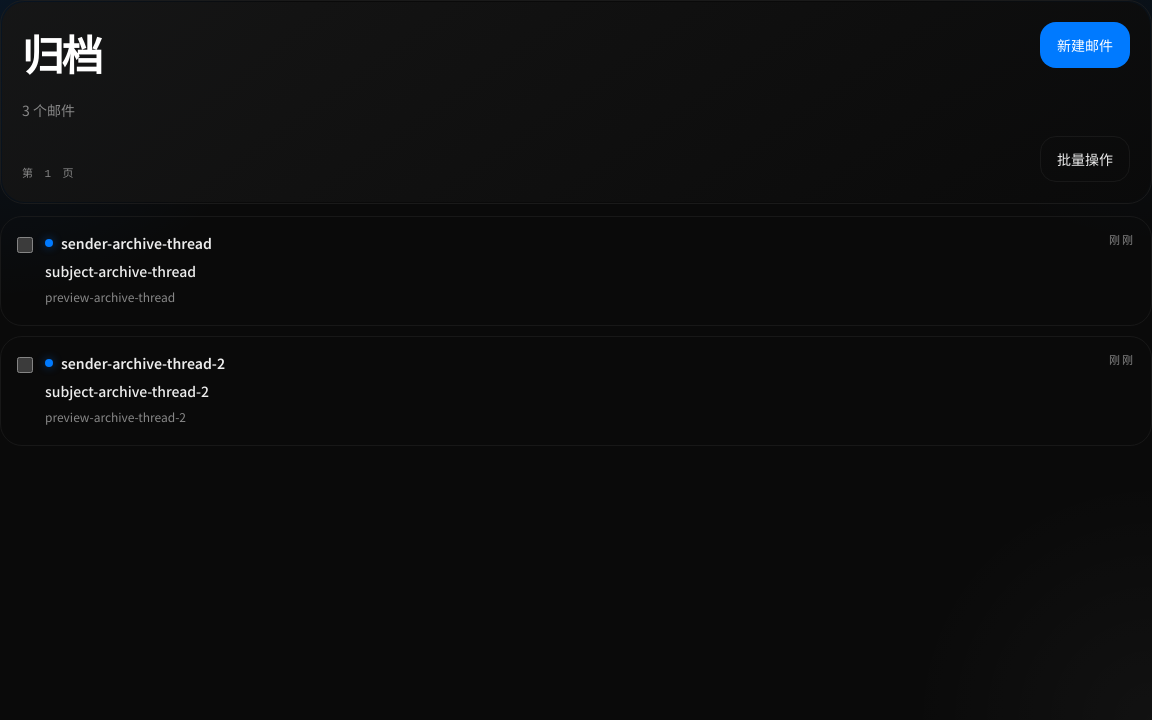
Test case: mail-actions › hides read actions but keeps the rest of the bulk surface in archive mailbox
The width and height of the screenshot is (1152, 720).
Click the checkbox with test id "thread-select-archive-thread".
click(25, 245)  # box [17,237,33,253]
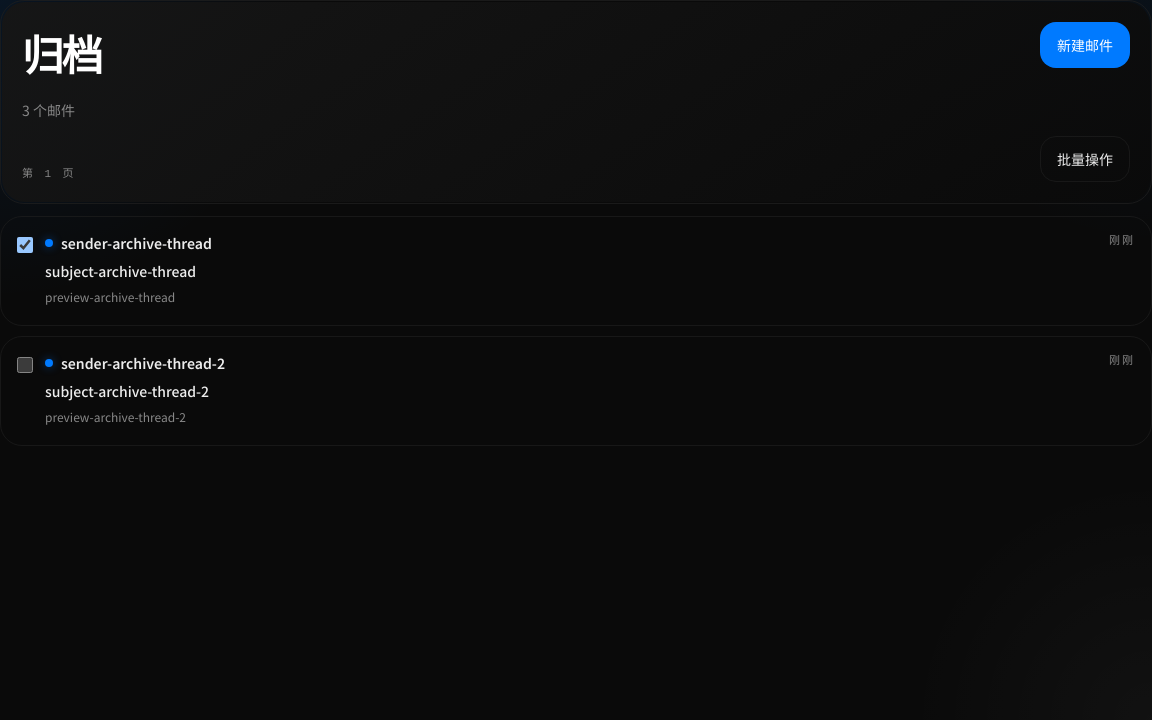
Click the checkbox with test id "thread-select-archive-thread-2".
click(25, 365)  # box [17,357,33,373]
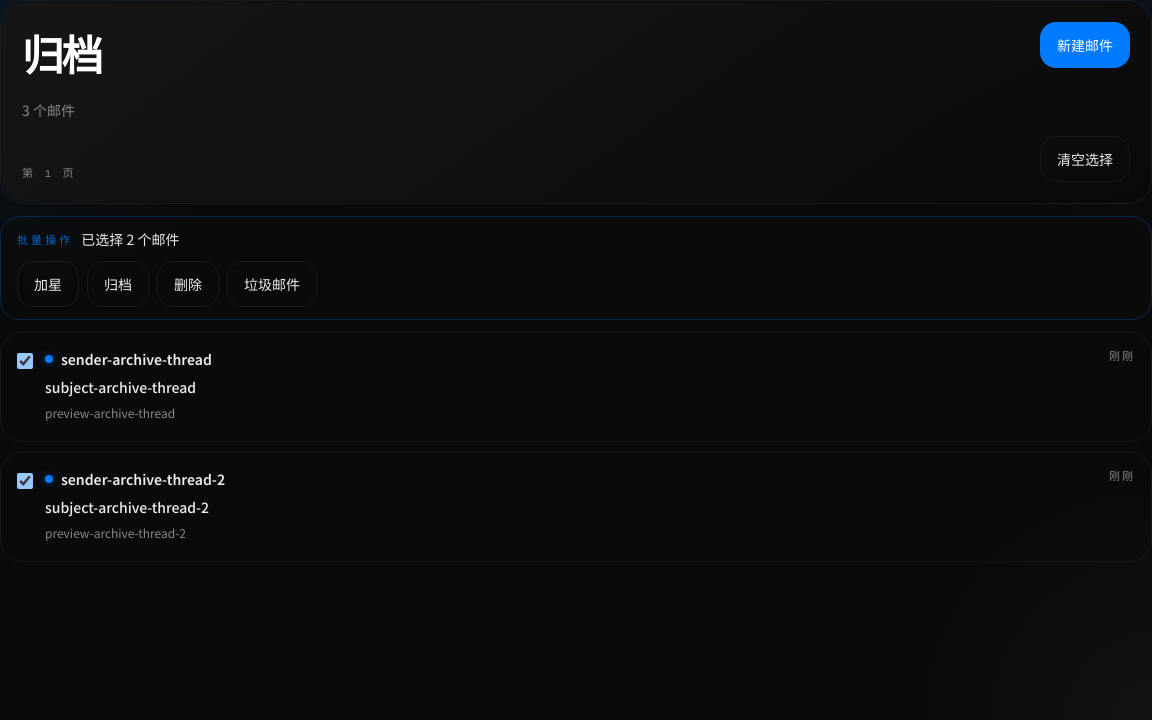
Expected: the button with test id "action-star" is shown, [17,261,79,307]
Expected: the button with test id "action-move" is shown, [87,261,149,307]
Expected: the button with test id "action-delete" is shown, [157,261,219,307]
